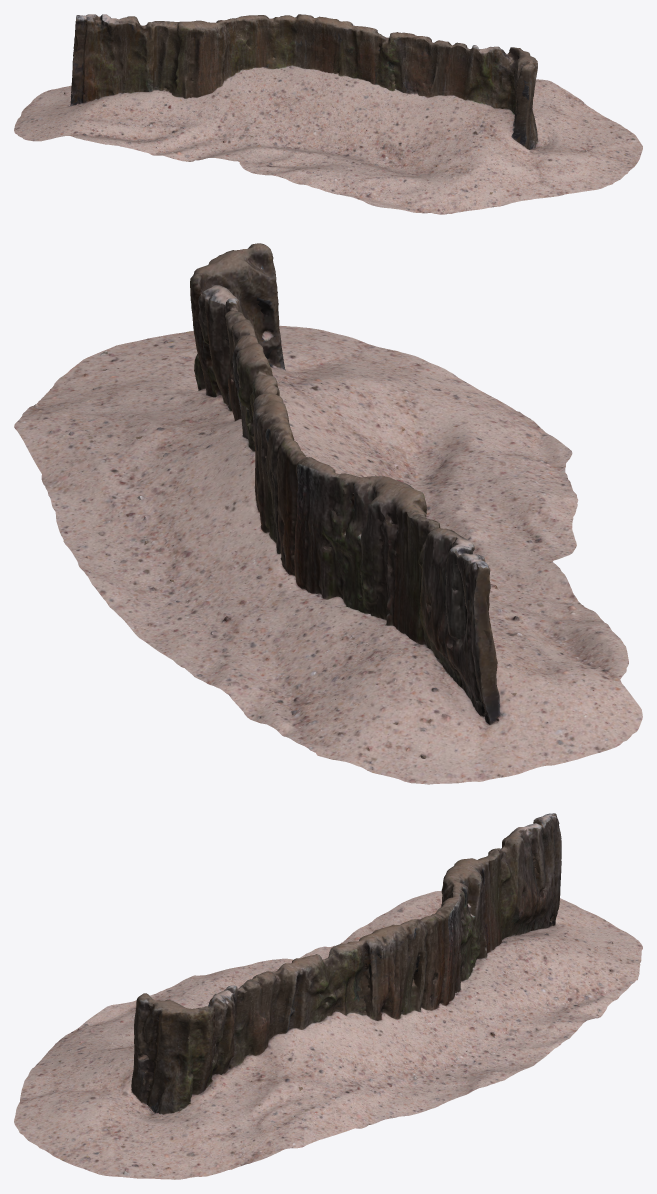
File: wall.gltf
3 renders of one model, top to bottom at view 1: azimuth 30°, elevation 25°; view 2: azimuth 150°, elevation 25°; view 3: azimuth 270°, elevation 25°, orthographic. The views are drawn at different scales.
Visible parts, largest first — view 1: wall; view 2: wall; view 3: wall.
Part boxes in pixels (x1=…): wall: x1=14, y1=14, x2=642, y2=214; wall: x1=14, y1=243, x2=642, y2=784; wall: x1=14, y1=813, x2=642, y2=1179.
Bounding box in the file's own units: 27.93 × 6 × 25.71.
1 material, 1 textured.
